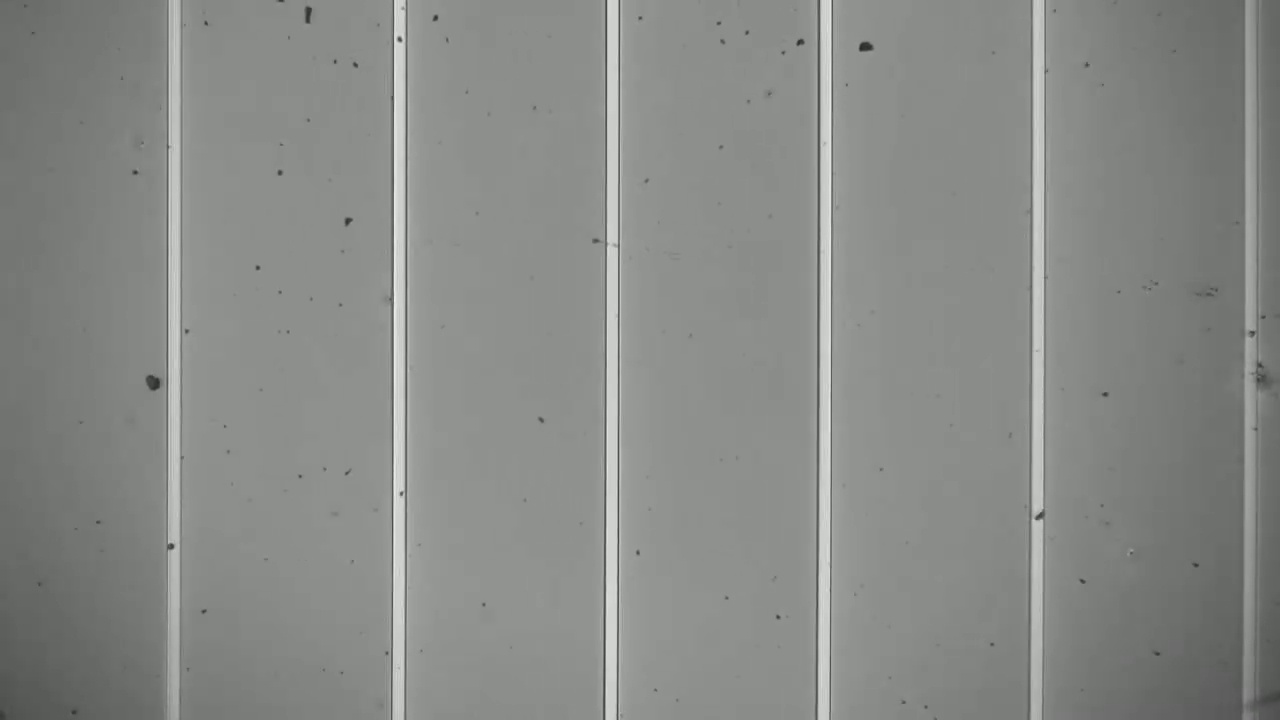stains_enbedded: (159, 536, 186, 561), (1027, 503, 1049, 530)
